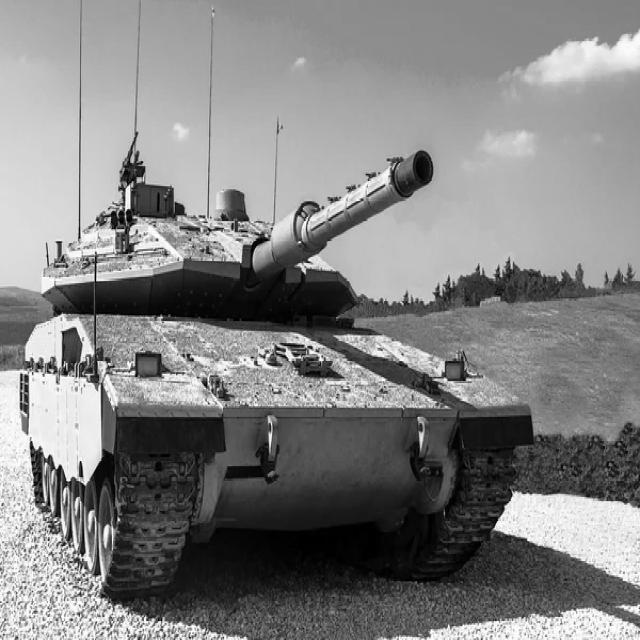Tank: (18, 134, 544, 601)
